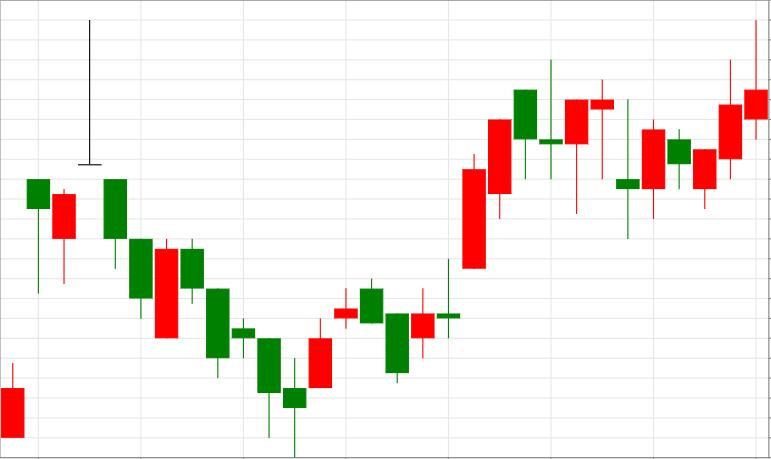morning_star_rise: (78, 19, 332, 458)
shooting_star_fall: (616, 21, 769, 239)
